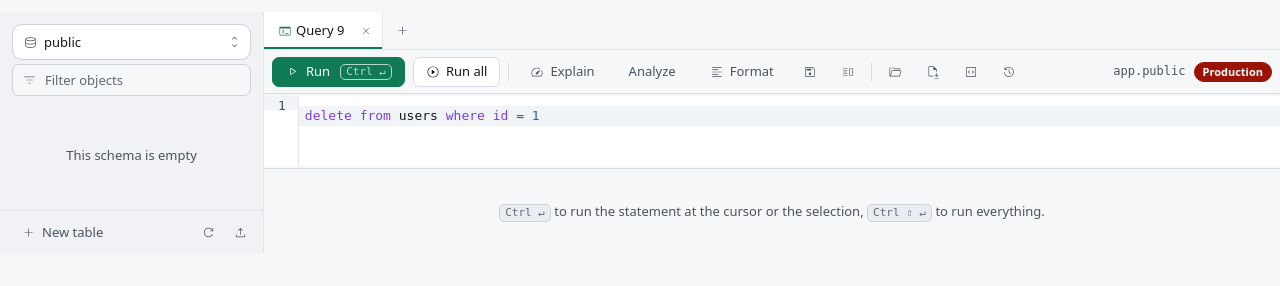
Test case: restore points › a run that keeps a restore point refreshes the panel, which opens beside the tabs
Click the button "Run all" at (457, 72), box x1=413 y1=56 x2=500 y2=86
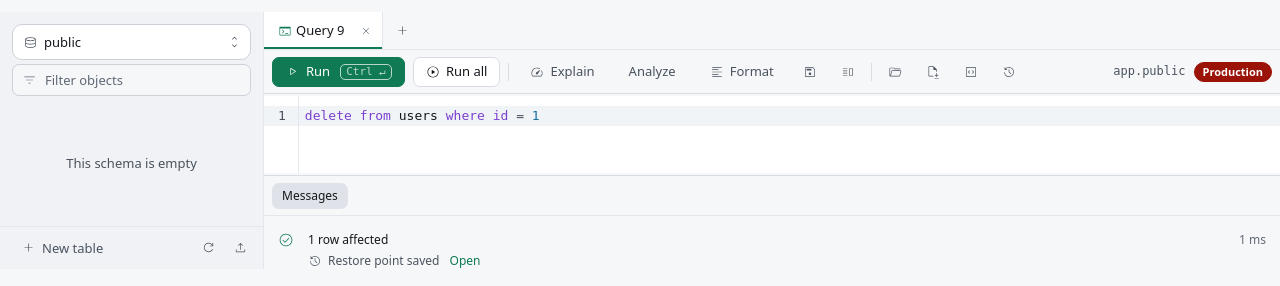
Expected: the element "Restore points" is not shown
Now the text "Restore point saved" is shown, box x1=328 y1=252 x2=440 y2=268
Click the button with aria-label "Open restore points" at (465, 261), box x1=446 y1=252 x2=484 y2=269
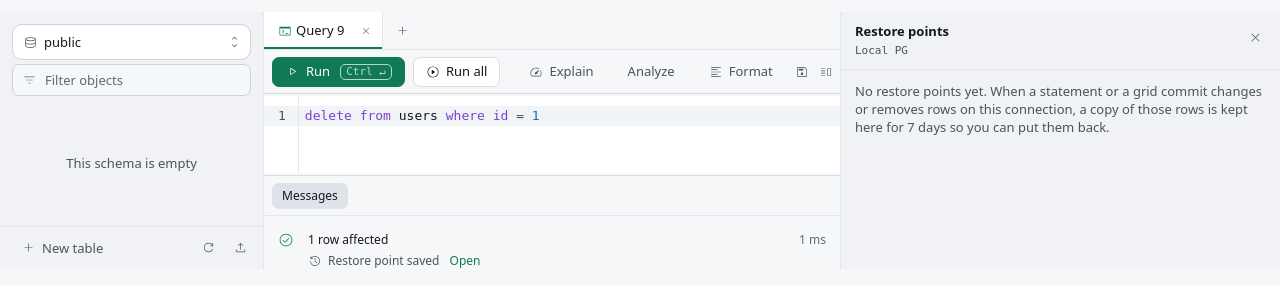
Now the element "Restore points" is shown, box x1=840 y1=12 x2=1279 y2=269
